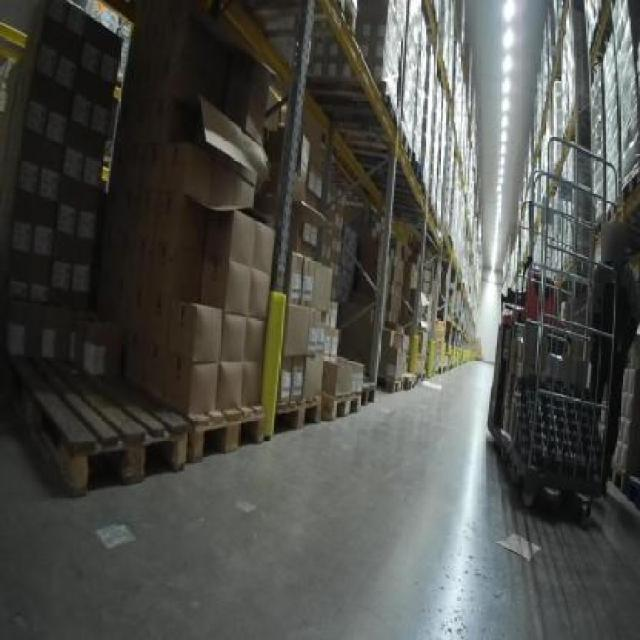ground: (0, 358, 638, 638)
pallet: (9, 357, 194, 506), (187, 404, 268, 460), (276, 393, 327, 434), (330, 387, 369, 422)
